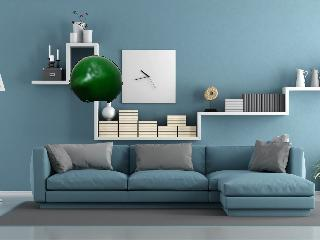lime: (71, 56, 123, 105)
